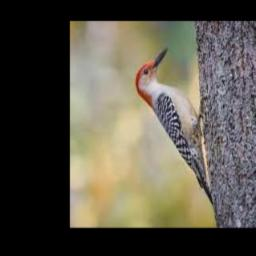Woodpecker: (135, 48, 214, 207)
